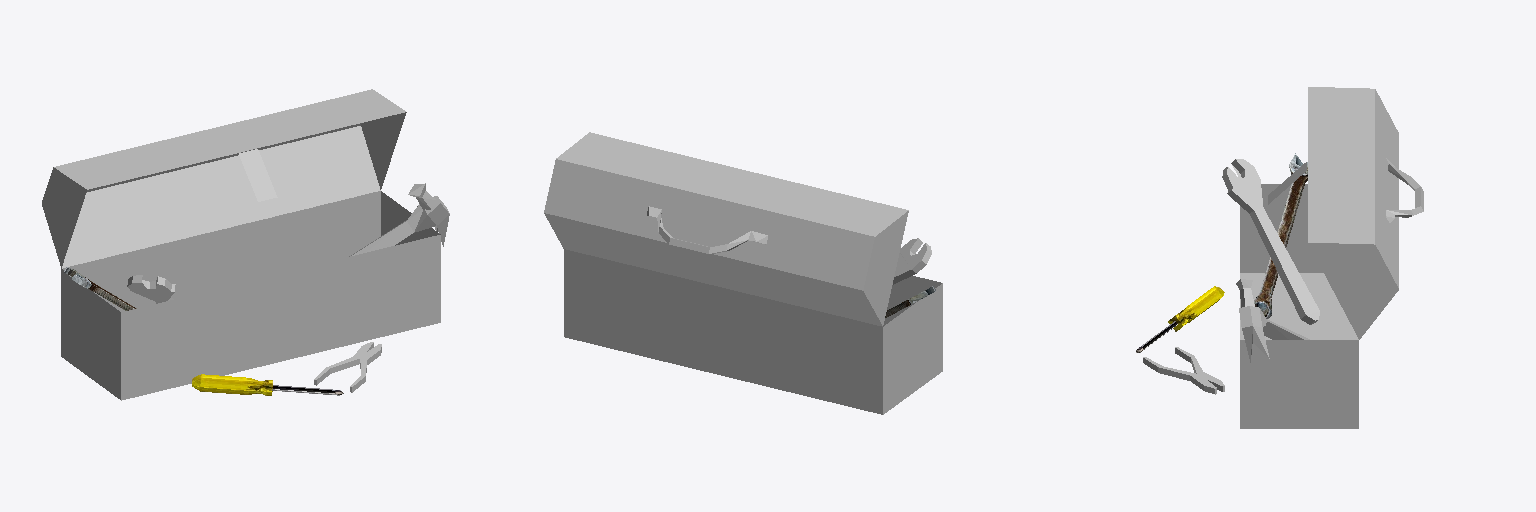
The picture shows the model from 3 angles: view 1: azimuth 30°, elevation 25°; view 2: azimuth 150°, elevation 25°; view 3: azimuth 270°, elevation 25°; orthographic projection.
Visible parts, largest first — view 1: ToolBox, Hammer, ScrewDriverPlastic, Plires, AWrench, Wrench; view 2: ToolBox, AWrench; view 3: ToolBox, AWrench, Hammer, Wrench, Plires, ScrewDriverPlastic.
Part boxes in pixels (x1,y1,x2,y2): ToolBox: (42, 89, 440, 400); Hammer: (349, 183, 449, 256); ScrewDriverPlastic: (192, 374, 343, 395); Plires: (314, 342, 381, 392); AWrench: (127, 275, 175, 303); Wrench: (64, 267, 136, 310); ToolBox: (544, 132, 942, 414); AWrench: (893, 238, 931, 284); ToolBox: (1240, 87, 1423, 428); AWrench: (1222, 159, 1319, 324); Hammer: (1236, 279, 1309, 362); Wrench: (1254, 153, 1307, 318); Plires: (1143, 347, 1224, 394); ScrewDriverPlastic: (1136, 286, 1224, 352).
Bounding box in the file's own units: 2.16 × 1.09 × 1.52.
6 materials, 2 textured.